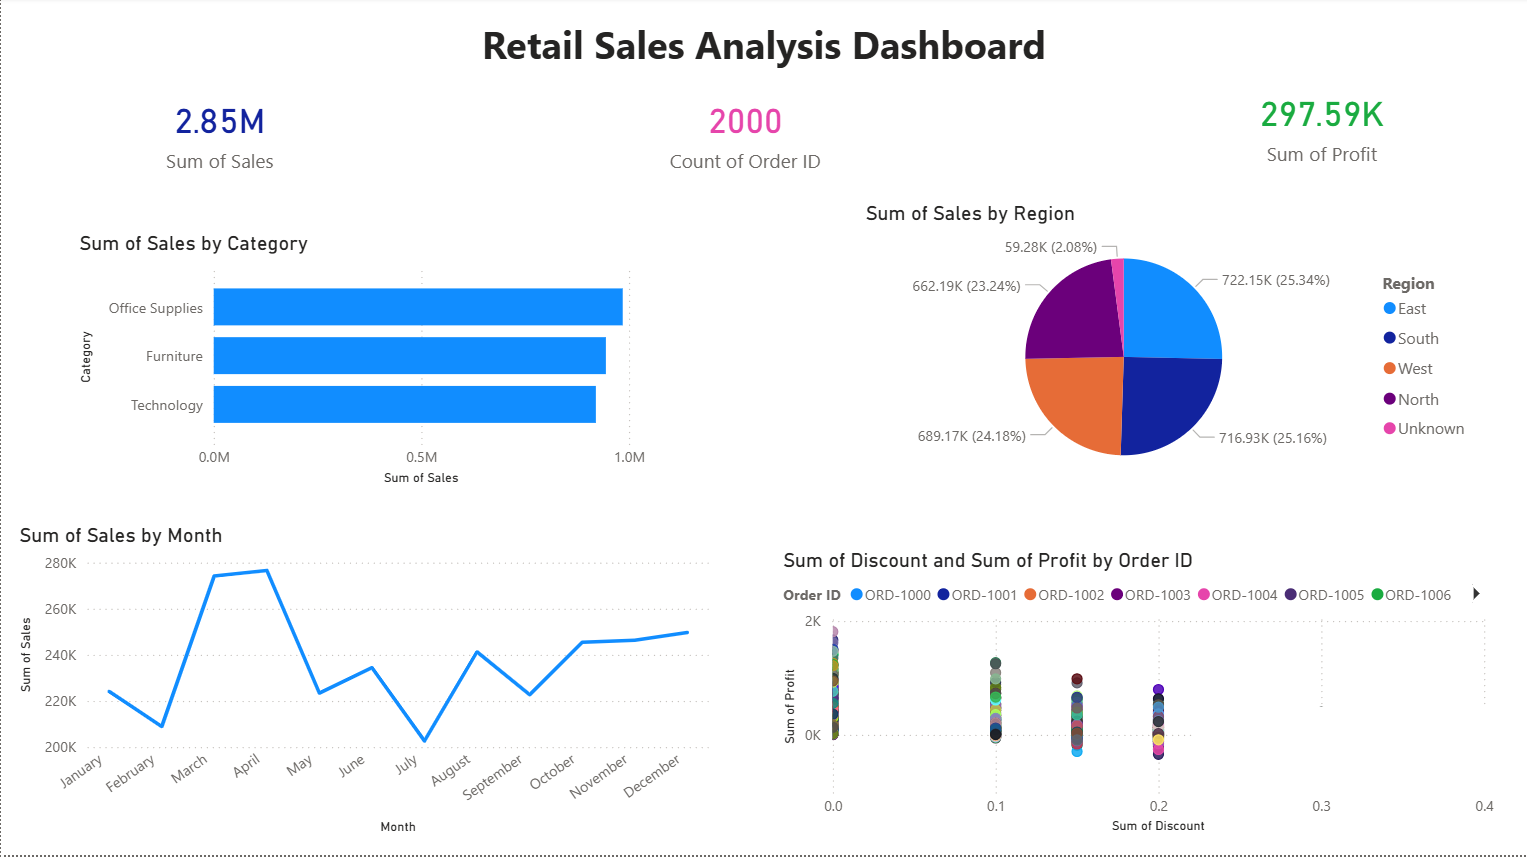

The dashboard page shown, as its layout file describes it:
{"tool":"powerbi","page":{"name":"Page 1","canvas":[1280,720],"ordinal":0},"visuals":[{"type":"card","fields":{"Values":["Sum(retail_sales_clean.Sales)"]},"box":[0,49.7,367.5,127.8],"z":0},{"type":"card","fields":{"Values":["CountNonNull(retail_sales_clean.Order ID)"]},"box":[483.9,55.4,280.4,115.3],"z":1},{"type":"card","fields":{"Values":["Sum(retail_sales_clean.Profit)"]},"box":[993.8,43,228.4,127.8],"z":2},{"type":"clusteredBarChart","fields":{"Category":["retail_sales_clean.Category"],"Y":["Sum(retail_sales_clean.Sales)"]},"box":[61.1,195.6,485.1,218.2],"z":3},{"type":"pieChart","fields":{"Category":["retail_sales_clean.Region"],"Y":["Sum(retail_sales_clean.Sales)"]},"box":[720.2,170.7,521.2,243.1],"z":4},{"type":"scatterChart","fields":{"X":["Sum(retail_sales_clean.Discount)"],"Y":["Sum(retail_sales_clean.Profit)"],"Series":["retail_sales_clean.Order ID"]},"box":[651.3,462.4,606,244.2],"z":6},{"type":"lineChart","fields":{"Category":["retail_sales_clean.Order Date.Variation.Date Hierarchy.Month"],"Y":["Sum(retail_sales_clean.Sales)"]},"box":[10.2,441,587.9,265.7],"z":7},{"type":"textbox","box":[999.5,595.9,280.4,74.6],"z":8},{"type":"textbox","box":[0,12.4,1279.9,57.7],"z":9}]}

Visuals, with their boxes in screenshot pixels (x1, y1, x2, y2), scaled from the page's 1280x720 canvas onto the 1527x857 screenshot:
card - Sum(retail_sales_clean.Sales): (x1=0, y1=59, x2=438, y2=211)
card - CountNonNull(retail_sales_clean.Order ID): (x1=577, y1=66, x2=912, y2=203)
card - Sum(retail_sales_clean.Profit): (x1=1186, y1=51, x2=1458, y2=203)
clusteredBarChart - retail_sales_clean.Category x Sum(retail_sales_clean.Sales): (x1=73, y1=233, x2=652, y2=493)
pieChart - retail_sales_clean.Region x Sum(retail_sales_clean.Sales): (x1=859, y1=203, x2=1481, y2=493)
scatterChart - Sum(retail_sales_clean.Discount) x Sum(retail_sales_clean.Profit): (x1=777, y1=550, x2=1500, y2=841)
lineChart - retail_sales_clean.Order Date.Variation.Date Hierarchy.Month x Sum(retail_sales_clean.Sales): (x1=12, y1=525, x2=714, y2=841)
textbox: (x1=1192, y1=709, x2=1526, y2=798)
textbox: (x1=0, y1=15, x2=1526, y2=83)
